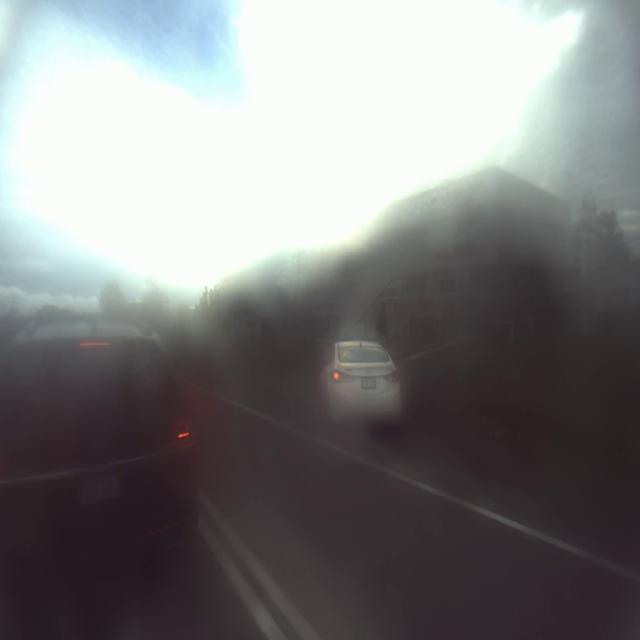car: (309, 317, 404, 437)
